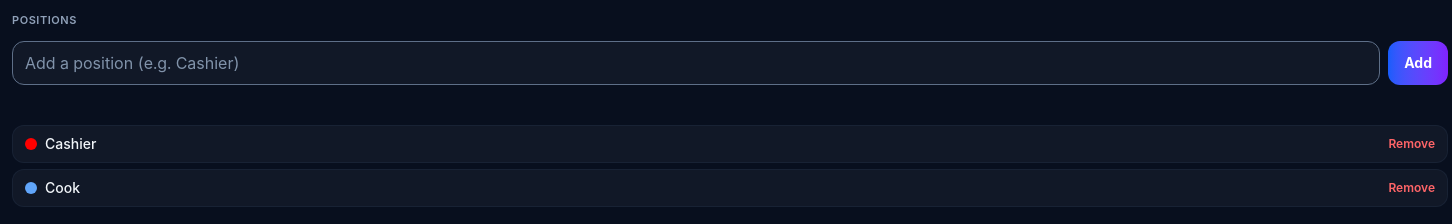
Test: PositionsManager › shows a validation error and does not create on an empty name
The width and height of the screenshot is (1452, 224).
Click the button "Add" at (1418, 62), box [1388, 40, 1448, 84]
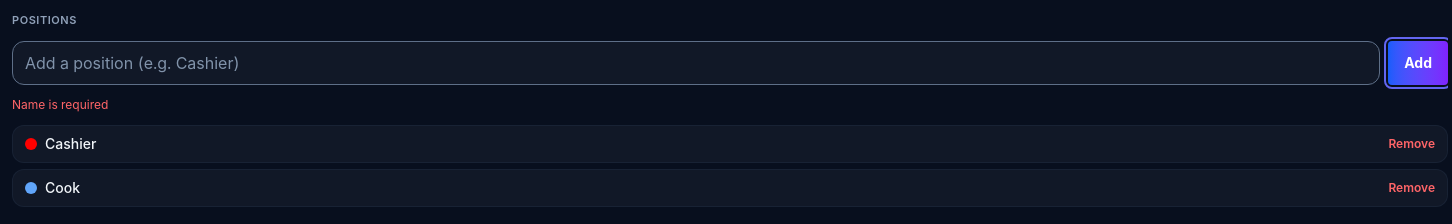
Expected: the message "Name is required" is shown, [12, 96, 108, 112]
